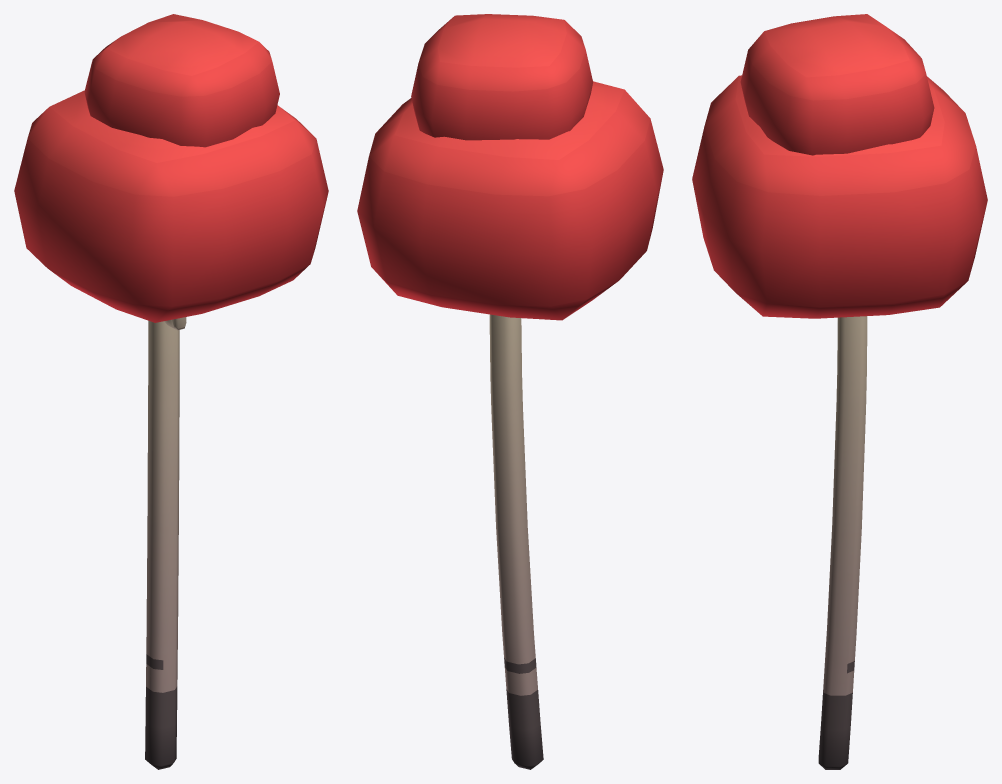
Rendered from birch_tree_col3_09.fbx.
The picture shows the model from 3 angles, left to right: view 1: azimuth 30°, elevation 25°; view 2: azimuth 150°, elevation 25°; view 3: azimuth 270°, elevation 25°; orthographic projection. The views are drawn at different scales.
Parts seen in each view (by area): view 1: birch_tree_SC_col3_09; view 2: birch_tree_SC_col3_09; view 3: birch_tree_SC_col3_09.
Boxes of the visible parts, x1=… form: birch_tree_SC_col3_09: x1=14, y1=14, x2=328, y2=769; birch_tree_SC_col3_09: x1=357, y1=14, x2=663, y2=769; birch_tree_SC_col3_09: x1=692, y1=14, x2=987, y2=769.
Size of the model in its own units: 177 by 487 by 175.
